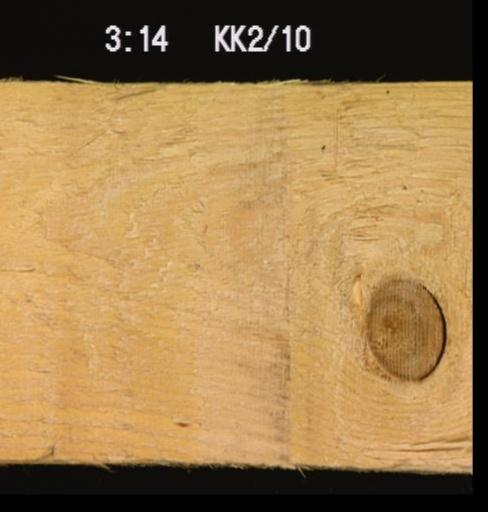dry_knot: (364, 275, 448, 381)
split: (363, 432, 466, 454)
